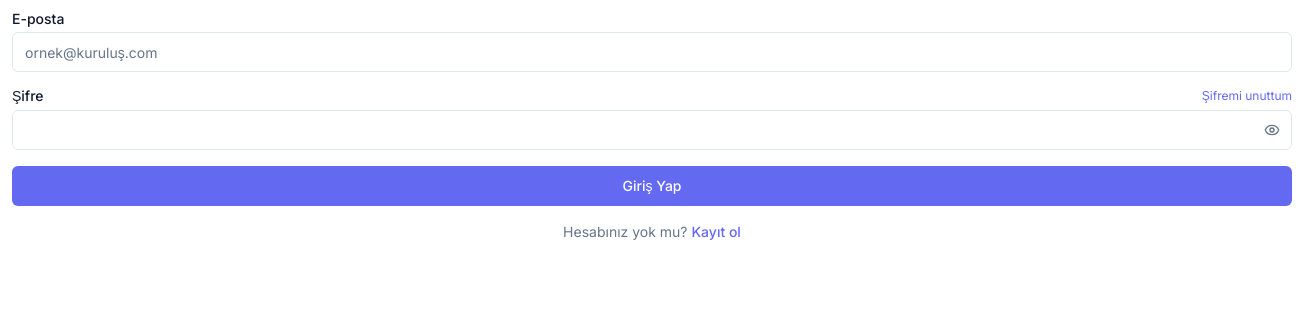
IC-06 · e-posta/şifre girişi (enumeration-safe) › KIMLIK_DOGRULANMADI → backend metni ne olursa olsun sabit tek tip mesaj
The width and height of the screenshot is (1304, 319).
In the field labelled "E-posta": (652, 52) x1=12 y1=32 x2=1292 y2=72, type "kisi@ornek.com"
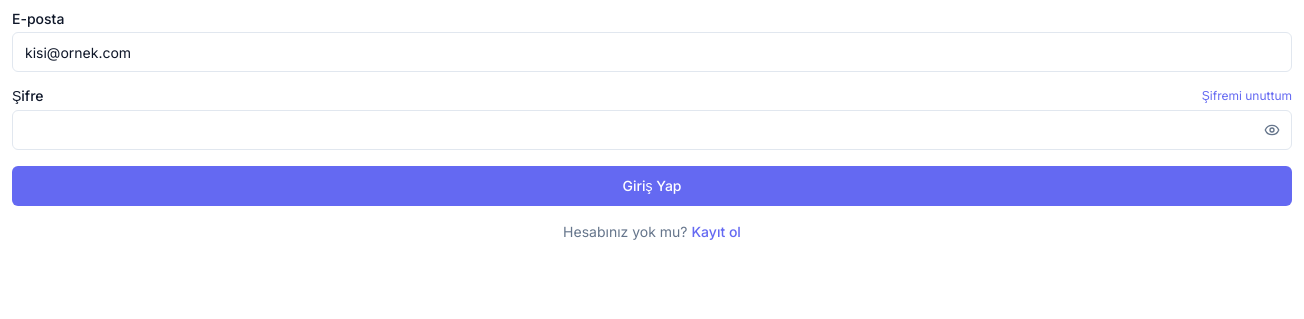
In the password field labelled "Şifre": (652, 130) x1=12 y1=110 x2=1292 y2=150, type "yanlis-sifre-1"
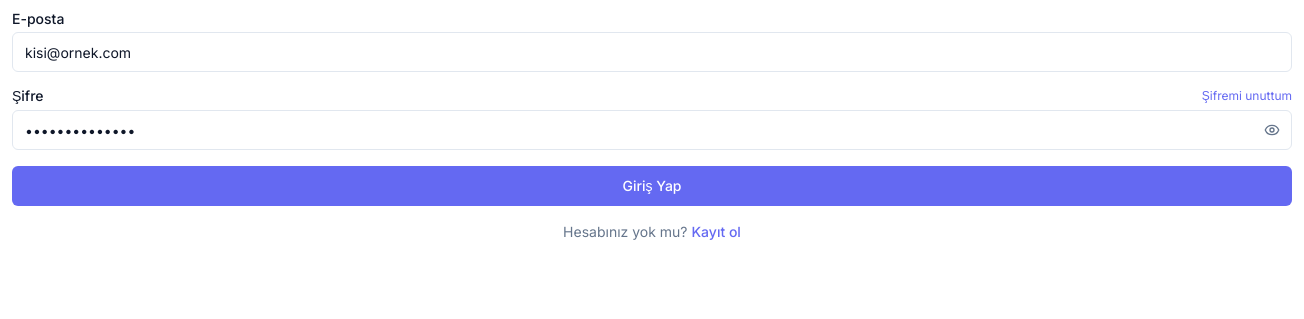
Click the button "Giriş Yap": (652, 186) x1=12 y1=166 x2=1292 y2=206
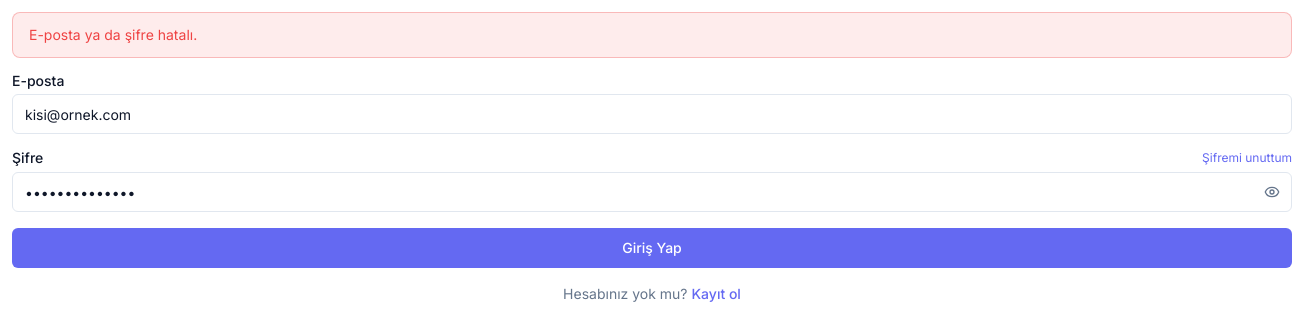
Check: the text "E-posta ya da şifre hatalı." is shown, box x1=12 y1=12 x2=1292 y2=58
